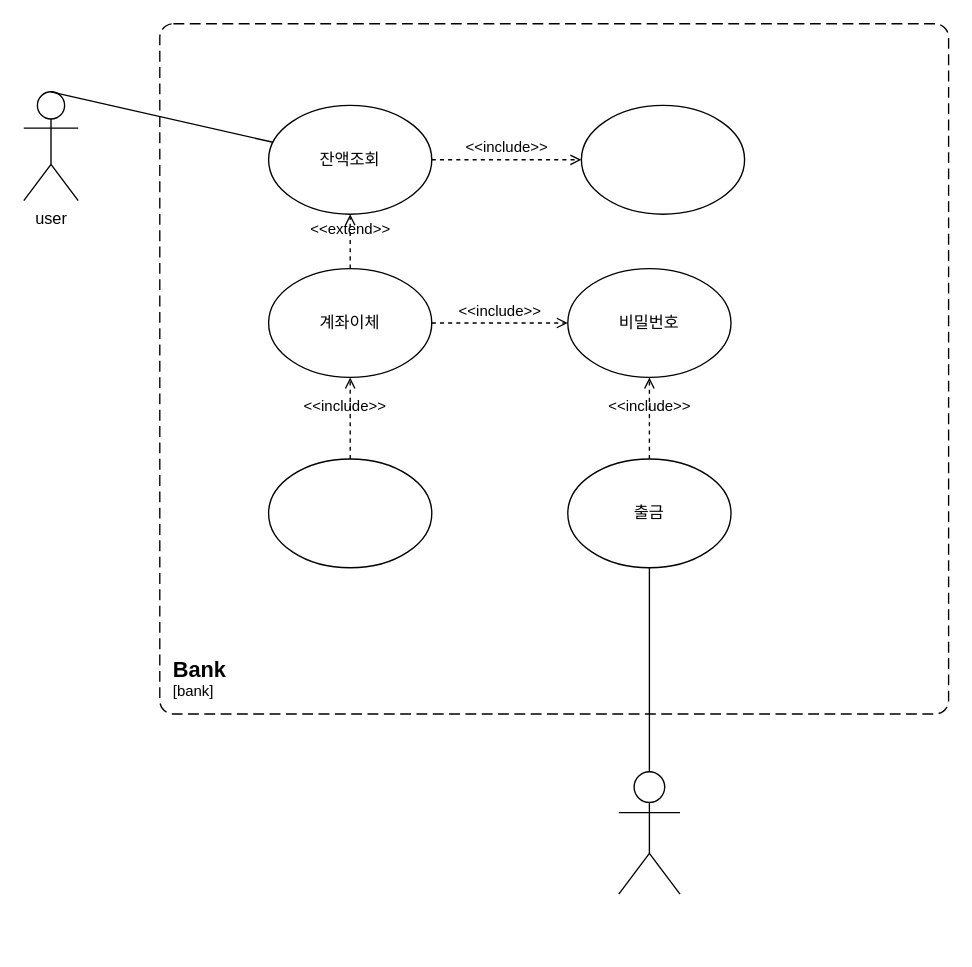
This 972x967 diagram has some shape labels left out. The shapes that lost their labels are listed below. From the top down, each one's box as (x1, y1, x2, y2) in pixels, then its label:
(580, 104, 745, 214): 아이디
(267, 458, 432, 568): 입금
(617, 770, 680, 894): another person
